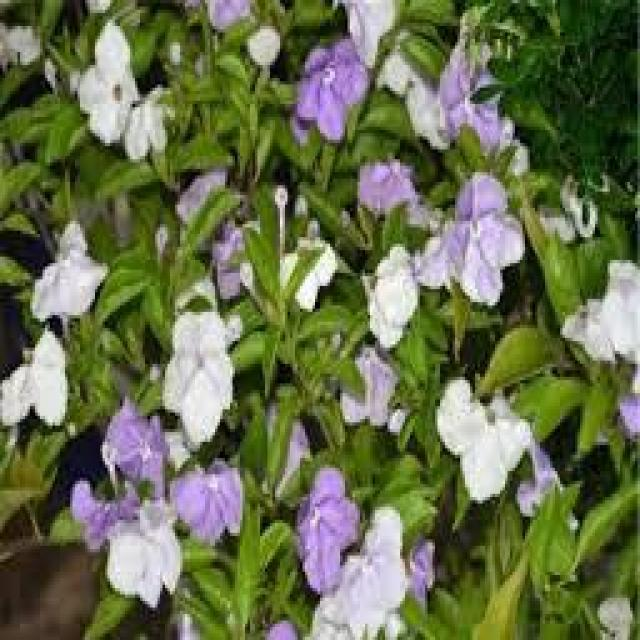organic waste: (74, 476, 194, 599), (434, 364, 544, 497), (420, 174, 525, 300), (162, 307, 246, 437), (70, 24, 160, 144), (550, 245, 635, 369), (20, 219, 110, 320), (291, 460, 359, 580), (290, 47, 370, 148), (428, 60, 510, 154), (181, 464, 259, 556), (6, 330, 69, 440), (104, 394, 168, 498), (362, 244, 410, 348), (124, 96, 181, 161)
